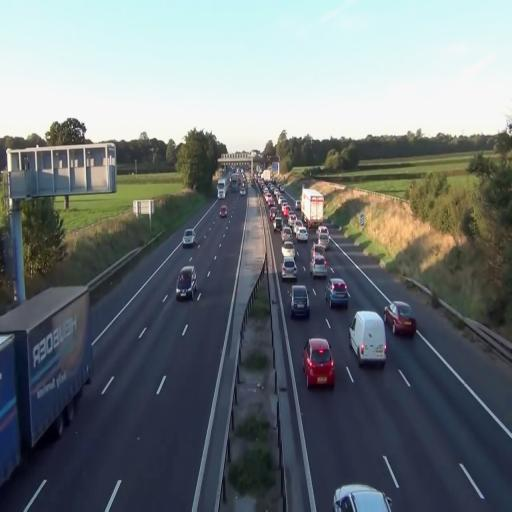vehicle: (349, 310, 388, 366), (302, 336, 335, 388), (334, 483, 392, 512), (301, 188, 325, 235), (384, 302, 416, 337), (290, 284, 310, 320), (176, 265, 196, 301), (327, 278, 350, 308), (282, 252, 298, 282), (292, 222, 308, 242), (182, 229, 196, 248), (219, 204, 227, 218)
